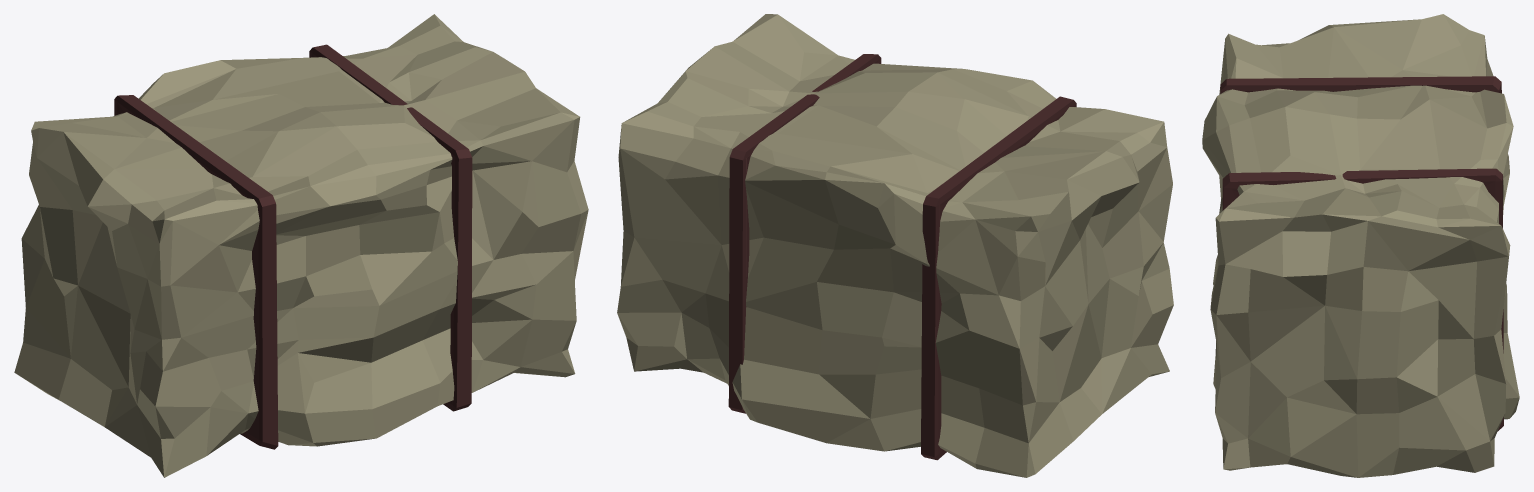
The model's file is hay_pile.fbx.
The picture shows the model from 3 angles, left to right: view 1: azimuth 30°, elevation 25°; view 2: azimuth 150°, elevation 25°; view 3: azimuth 270°, elevation 25°; orthographic projection. The views are drawn at different scales.
Parts seen in each view (by area): view 1: Hay, Cube.002, Cube.001; view 2: Hay, Cube.002, Cube.001; view 3: Hay, Cube.001, Cube.002.
Part boxes in pixels (x1,y1,x2,y2): Hay: (14, 14, 588, 477); Cube.002: (114, 95, 278, 449); Cube.001: (309, 44, 472, 411); Hay: (617, 14, 1173, 477); Cube.002: (921, 96, 1076, 460); Cube.001: (728, 54, 881, 413); Hay: (1202, 14, 1519, 477); Cube.001: (1222, 168, 1503, 431); Cube.002: (1220, 76, 1501, 93).
Bounding box in the file's own units: 315 × 193 × 198.
